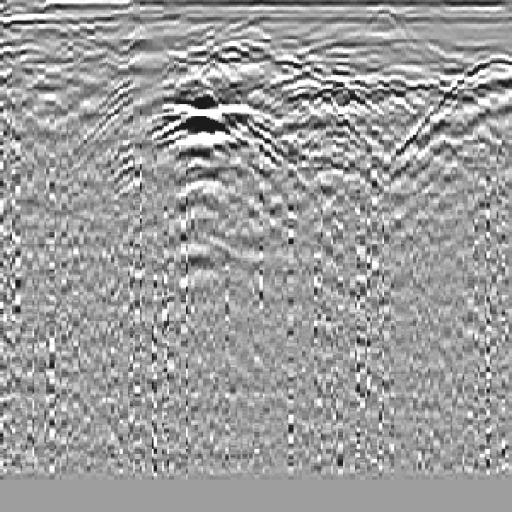metalic: (92, 56, 317, 212)
